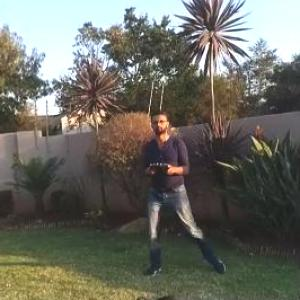follow: (138, 100, 230, 281)
